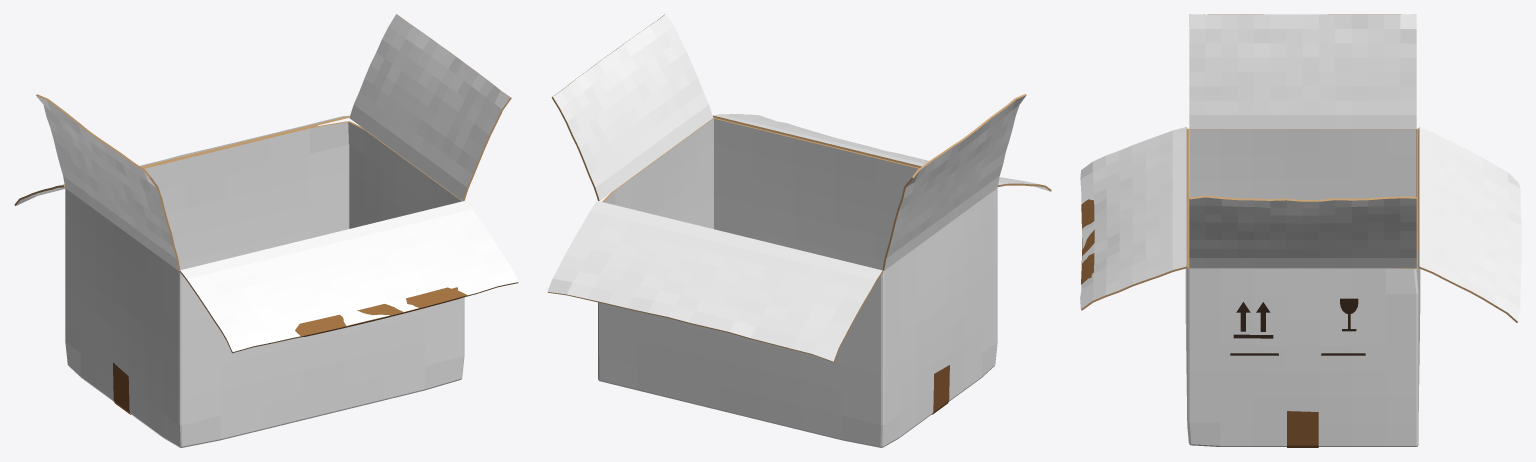
Rendered from carton-ouvert.glb.
3 views of the same model, side by side, from view 1: azimuth 30°, elevation 25°; view 2: azimuth 150°, elevation 25°; view 3: azimuth 270°, elevation 25° (orthographic).
Parts seen in each view (by area): view 1: carton-ouvert; view 2: carton-ouvert; view 3: carton-ouvert.
Part boxes in pixels (bbox=[...]): carton-ouvert: bbox=[14, 14, 518, 447]; carton-ouvert: bbox=[547, 14, 1051, 447]; carton-ouvert: bbox=[1080, 14, 1521, 447].
Bounding box in the file's own units: 0.6384 × 0.4703 × 0.6683.
